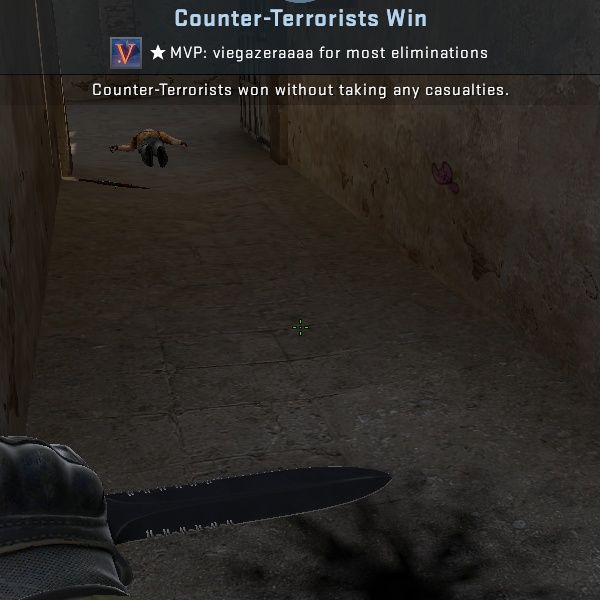t_body: (112, 124, 182, 169)
